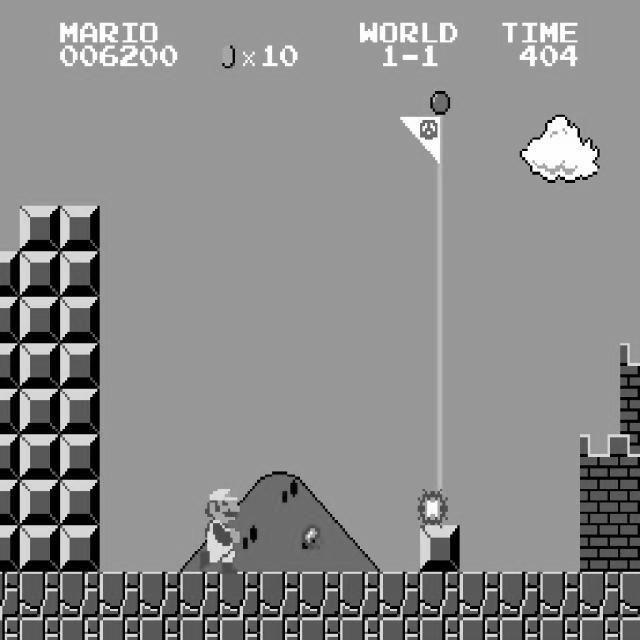17- undestructible_block: (20, 572, 60, 618), (60, 572, 100, 618), (100, 572, 140, 618), (140, 572, 180, 618), (180, 572, 220, 618), (220, 572, 260, 618), (260, 572, 300, 618), (300, 572, 340, 618), (340, 572, 380, 618), (380, 572, 420, 618), (420, 572, 460, 618), (460, 572, 500, 618), (500, 572, 540, 618), (540, 572, 580, 618), (580, 572, 620, 618), (0, 572, 20, 618), (620, 572, 640, 618), (20, 617, 60, 640), (60, 617, 100, 640), (100, 617, 140, 640), (140, 617, 180, 640), (180, 617, 220, 640), (220, 617, 260, 640), (260, 617, 300, 640), (300, 617, 340, 640), (340, 617, 380, 640), (380, 617, 420, 640), (420, 617, 460, 640), (460, 617, 500, 640), (500, 617, 540, 640), (540, 617, 580, 640), (580, 617, 620, 640), (0, 617, 20, 640), (620, 617, 640, 640)
4- fire_mario: (197, 480, 240, 574)
5- fireball: (302, 522, 322, 548)
7- goal_pole: (420, 68, 460, 114), (420, 114, 460, 160), (420, 160, 460, 206), (420, 252, 460, 298), (420, 297, 460, 343), (420, 388, 460, 434), (420, 434, 460, 480), (420, 480, 460, 526), (420, 206, 460, 251), (420, 343, 460, 388)
9- hard_block: (20, 252, 60, 298), (20, 297, 60, 343), (20, 388, 60, 434), (20, 434, 60, 480), (20, 480, 60, 526), (20, 526, 60, 572), (60, 252, 100, 298), (60, 297, 100, 343), (60, 388, 100, 434), (60, 434, 100, 480), (60, 480, 100, 526), (60, 526, 100, 572), (420, 526, 460, 572), (20, 206, 60, 251), (20, 343, 60, 388), (60, 206, 100, 251), (60, 343, 100, 388), (0, 252, 20, 298), (0, 297, 20, 343), (0, 388, 20, 434), (0, 434, 20, 480), (0, 480, 20, 526), (0, 526, 20, 572), (0, 343, 20, 388)
